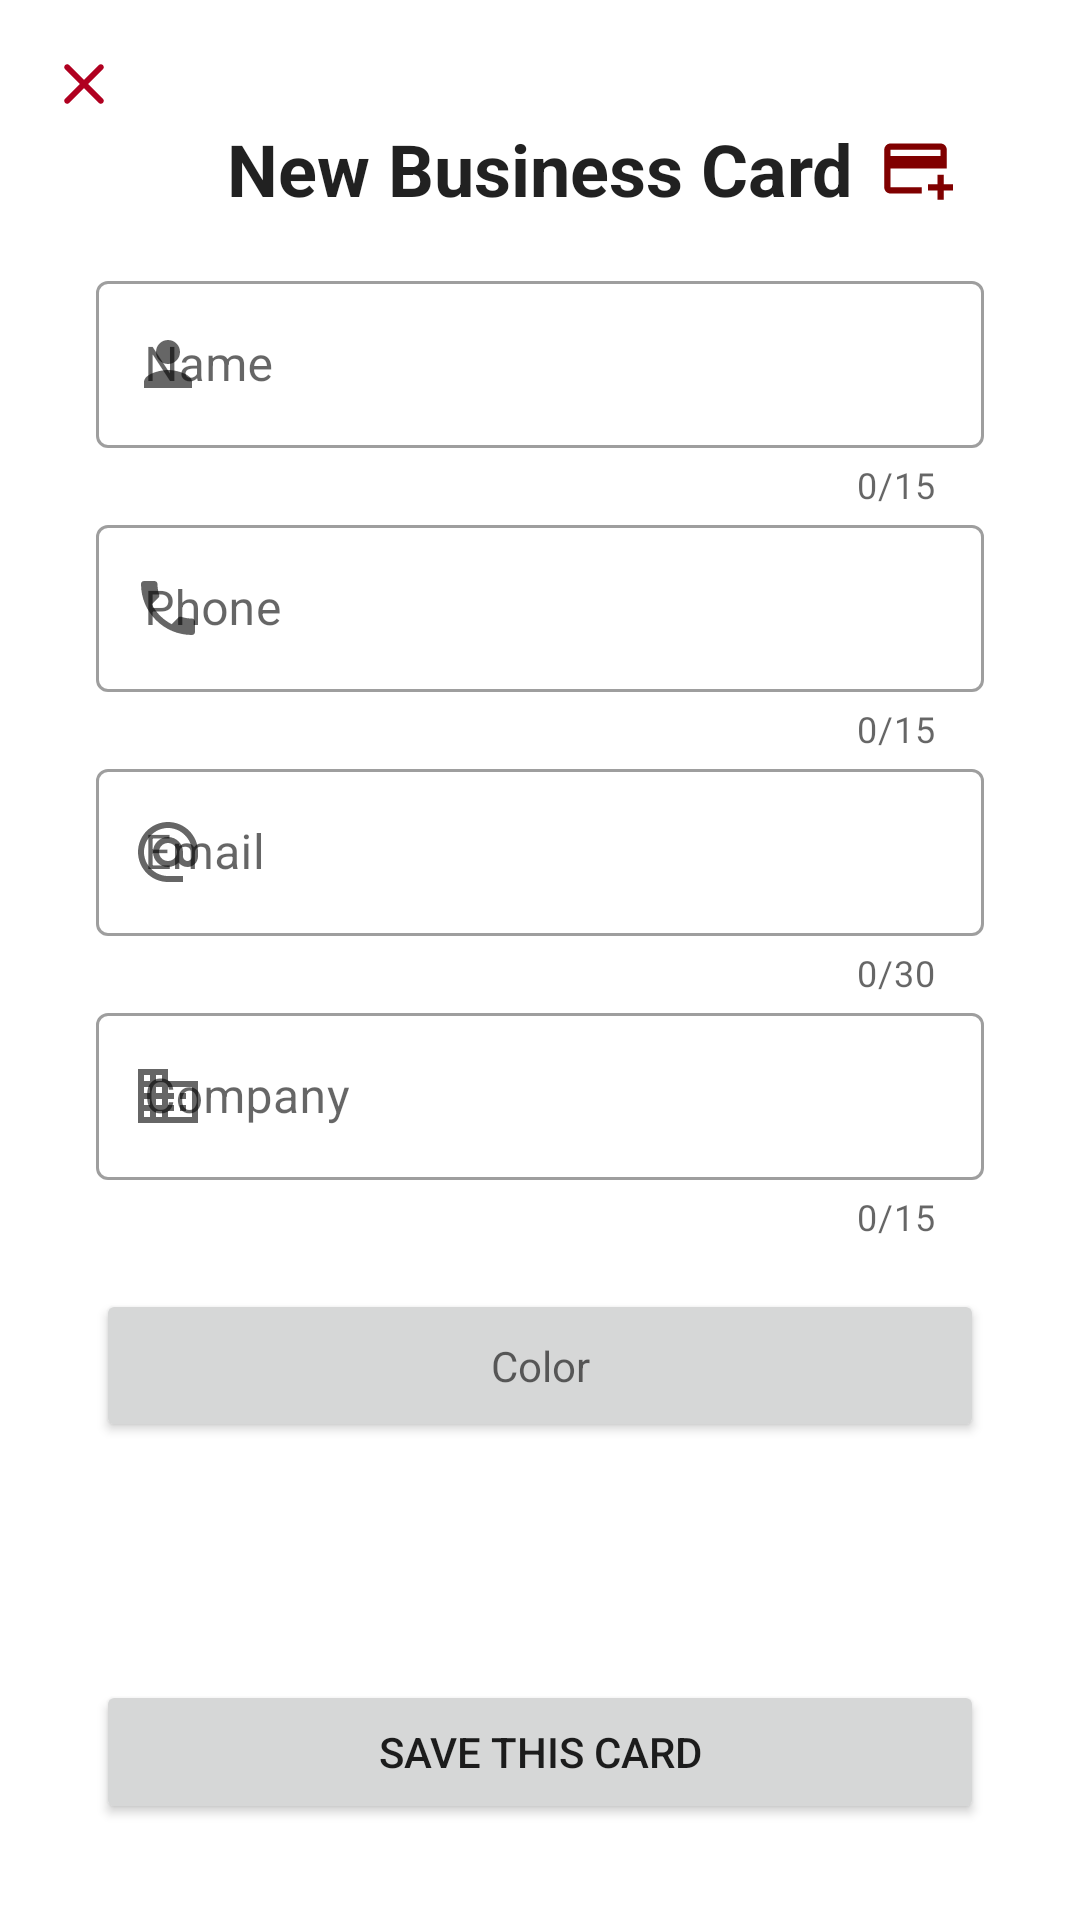

Point at icon controls on the screen. Image size 1080 x 1920, points as (x=x, y=y).
Close: (x=84, y=84)
